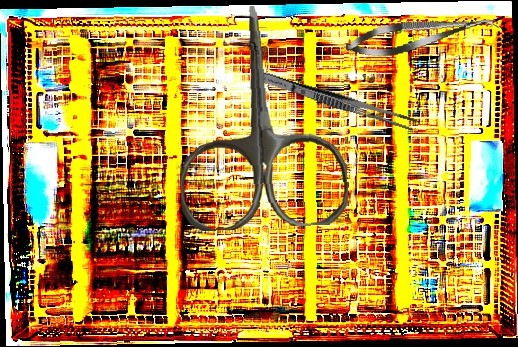Dressing Forceps: (252, 67, 420, 133)
Iris Scissors: (171, 1, 350, 233)
Micro Scissor: (343, 5, 501, 64)
